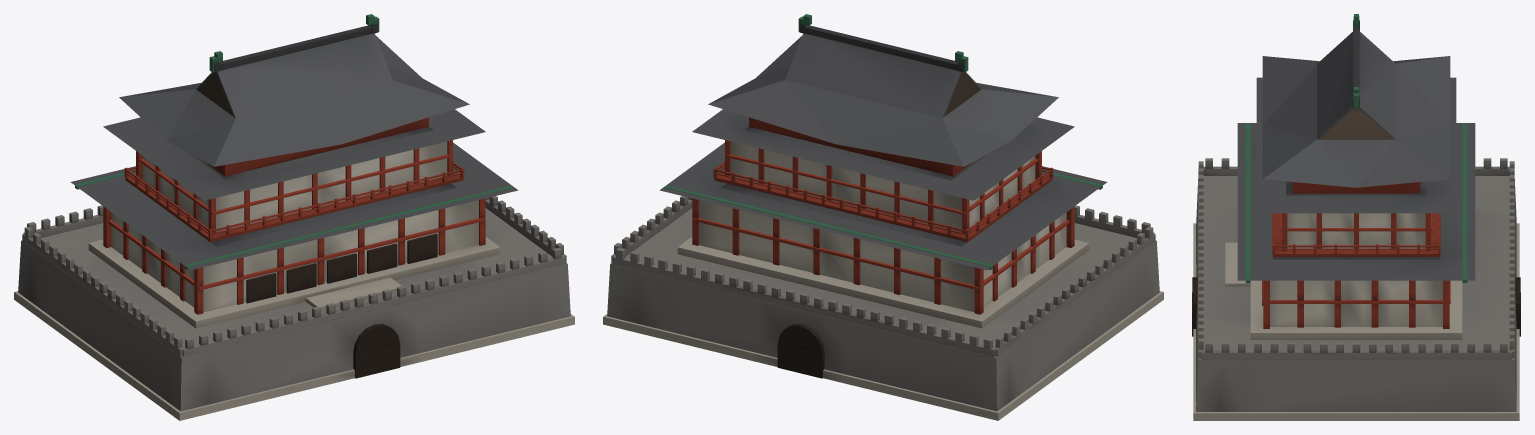
File: drum-tower.glb
3 views of the same model, side by side, from view 1: azimuth 30°, elevation 25°; view 2: azimuth 150°, elevation 25°; view 3: azimuth 270°, elevation 25° (orthographic).
Parts seen in each view (by area): view 1: p0_base, p2_roofs, p1_halls; view 2: p0_base, p2_roofs, p1_halls; view 3: p2_roofs, p0_base, p1_halls.
Boxes of the visible parts, box(x1,y1,x2,y2) form: p0_base: box(14, 196, 574, 420); p2_roofs: box(70, 14, 518, 270); p1_halls: box(88, 140, 500, 328); p0_base: box(603, 196, 1163, 420); p2_roofs: box(659, 14, 1107, 270); p1_halls: box(677, 140, 1089, 328); p2_roofs: box(1237, 14, 1475, 283); p0_base: box(1192, 158, 1520, 420); p1_halls: box(1225, 213, 1462, 339).
Bounding box in the file's own units: 53.2 × 35.77 × 38.9.
